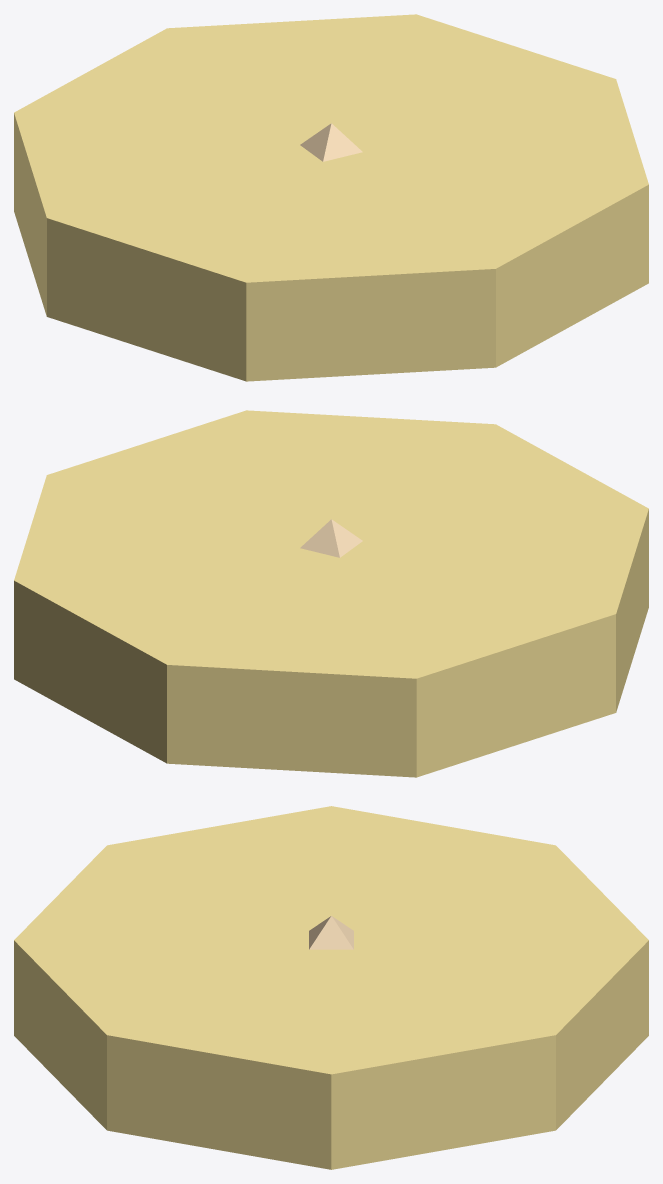
Rendered from Test_Dessert.fbx.
3 views of the same model, one above another, from view 1: azimuth 30°, elevation 25°; view 2: azimuth 150°, elevation 25°; view 3: azimuth 270°, elevation 25° (orthographic). The views are drawn at different scales.
Parts seen in each view (by area): view 1: Base Dessert, Cube; view 2: Base Dessert, Cube; view 3: Base Dessert, Cube.
Part boxes in pixels (box(x1,y1,x2,y2)): Base Dessert: box(14, 14, 648, 381); Cube: box(300, 123, 362, 161); Base Dessert: box(14, 410, 648, 777); Cube: box(300, 519, 362, 557); Base Dessert: box(14, 806, 648, 1169); Cube: box(309, 916, 353, 949).
Bounding box in the file's own units: 13990 × 2918 × 13990.
